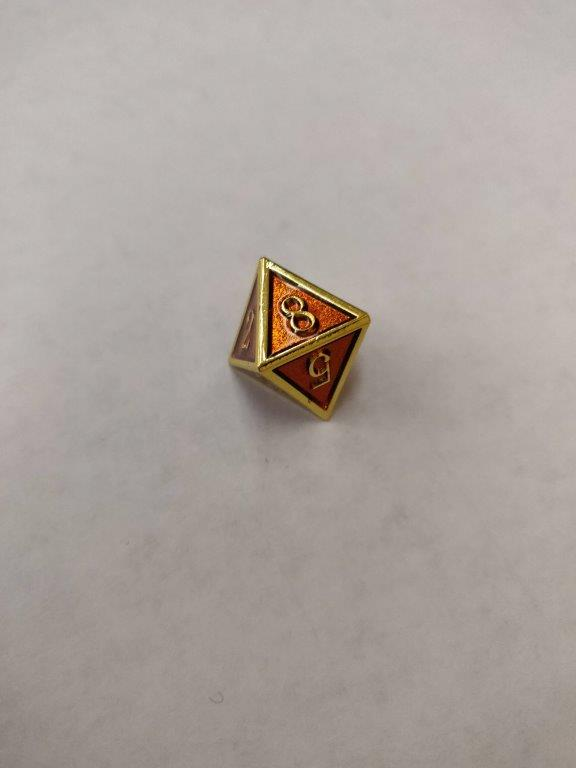d8-8: (227, 254, 371, 421)
